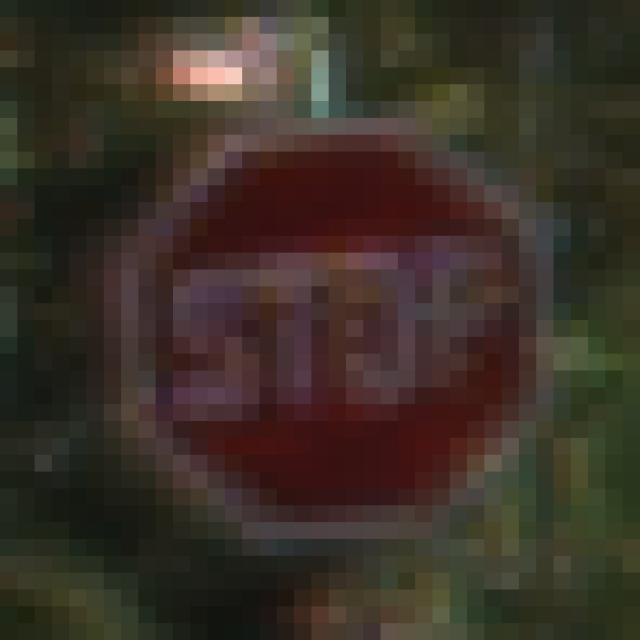STOP: (105, 102, 554, 557)
